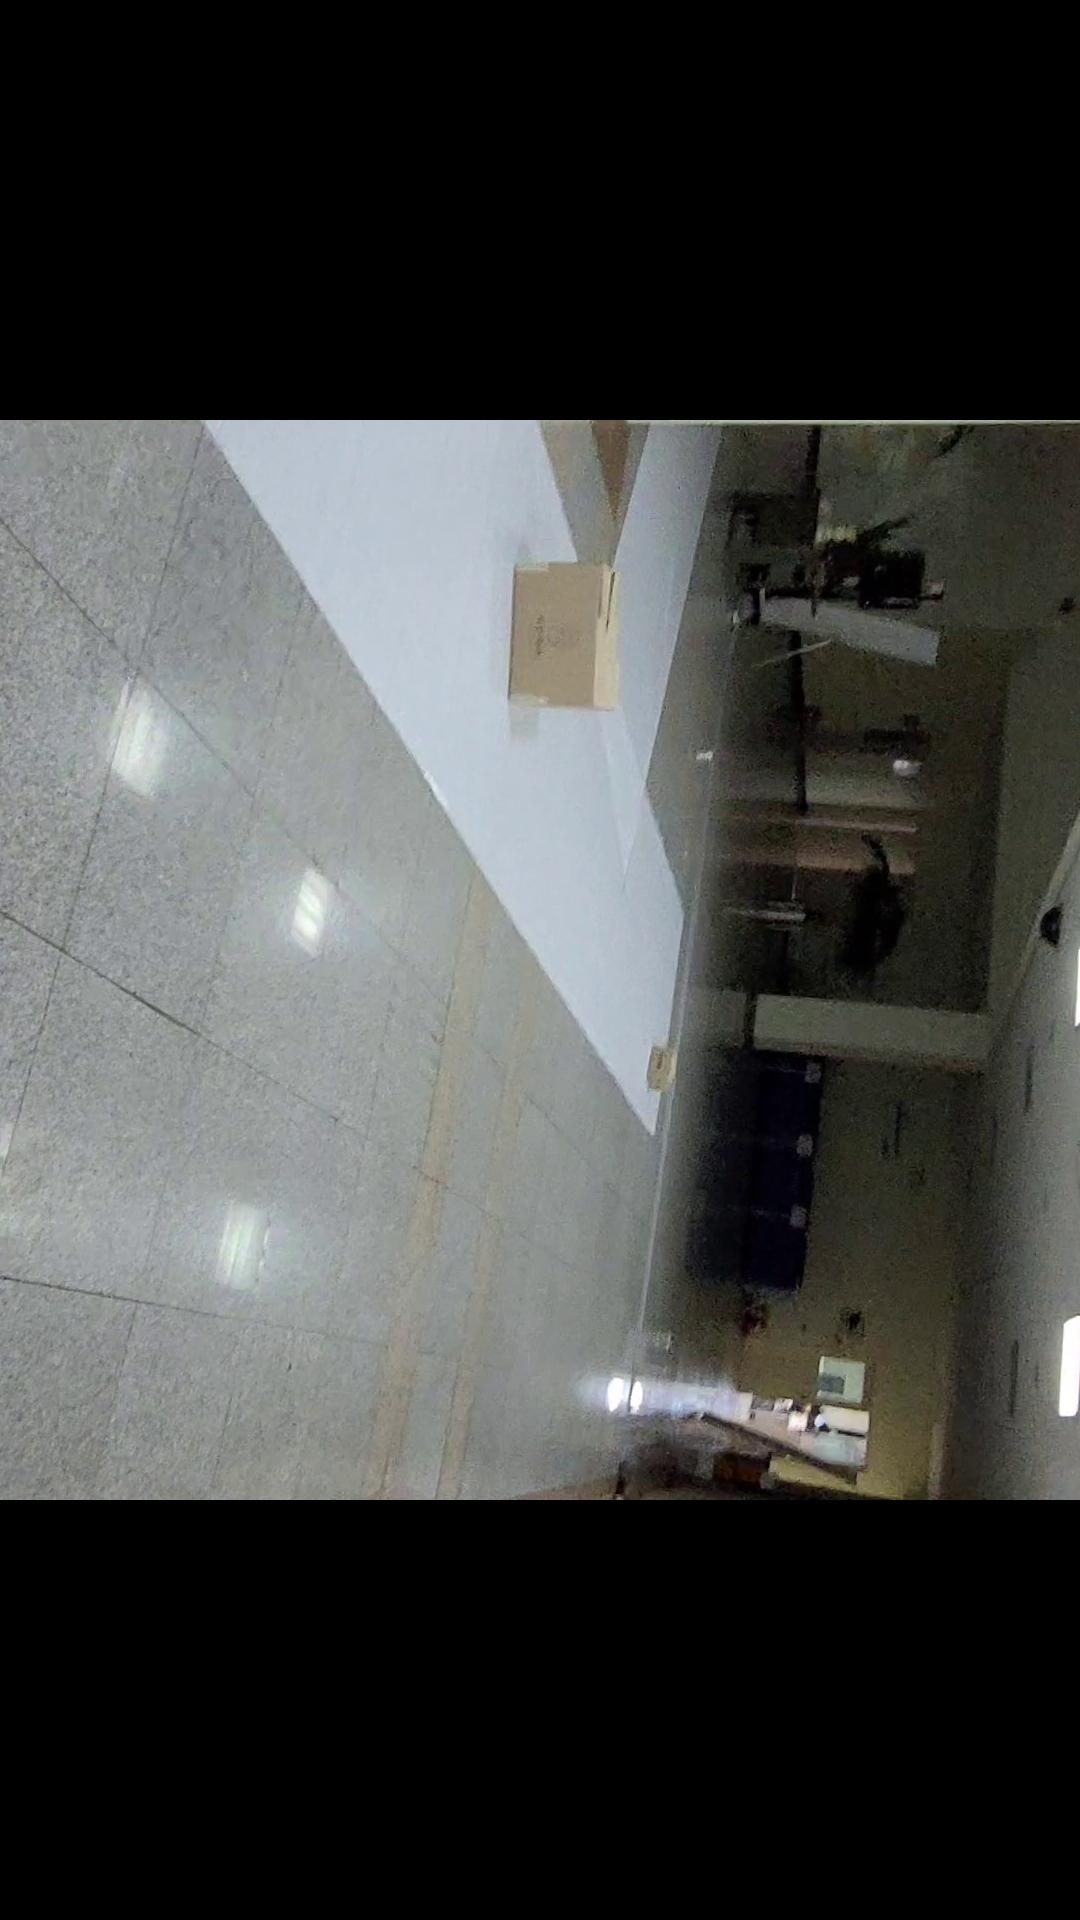Box: (483, 543, 647, 762), (620, 1023, 707, 1134)
